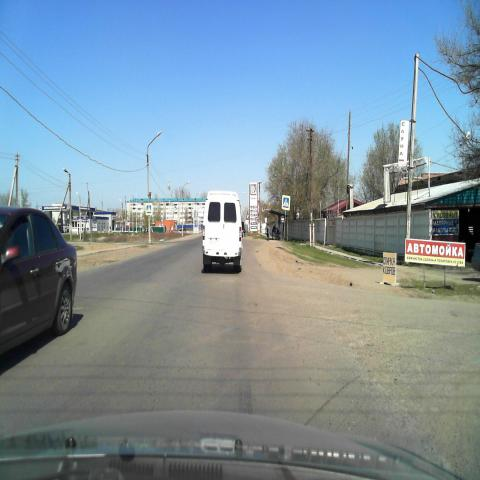5_19_1: (282, 195, 290, 210), (146, 202, 152, 216)
